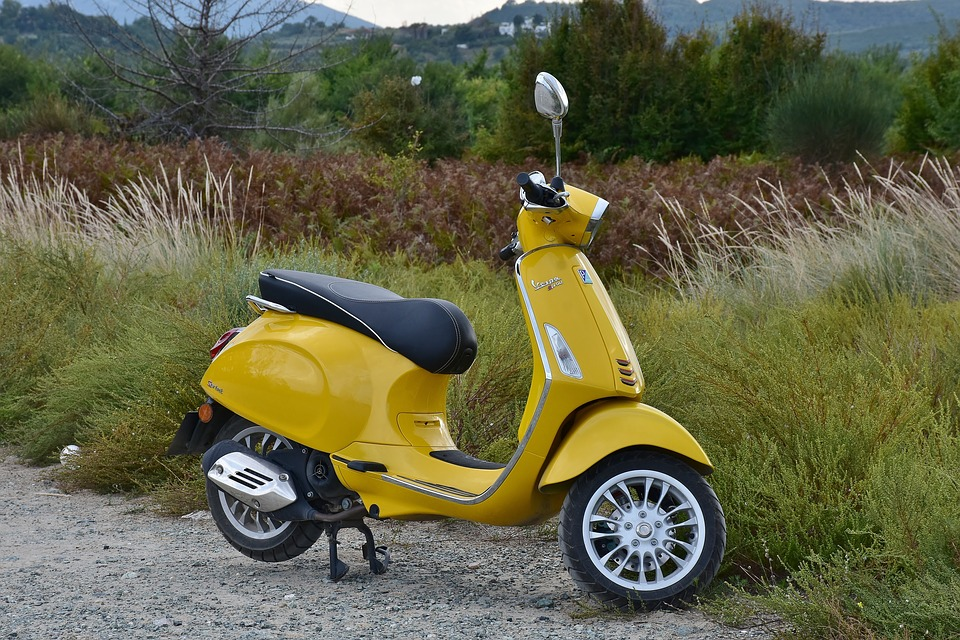motorcycle: (199, 169, 726, 607)
